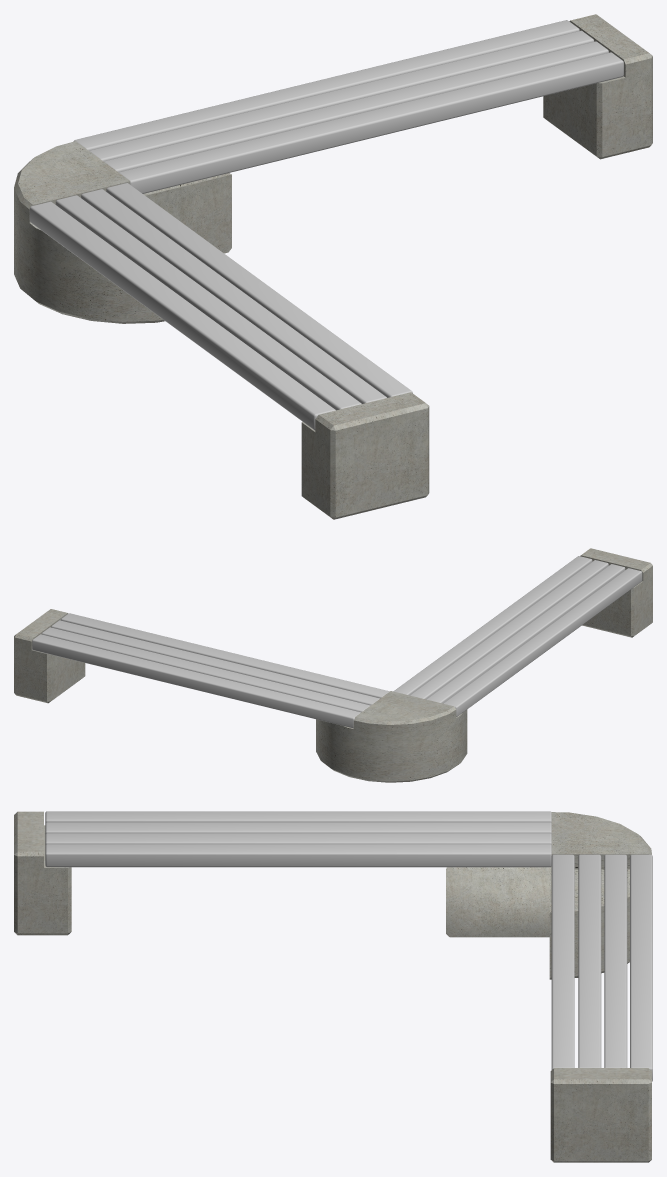
Rendered from Bench01_2.FBX.
3 renders of one model, top to bottom at view 1: azimuth 30°, elevation 25°; view 2: azimuth 150°, elevation 25°; view 3: azimuth 270°, elevation 25°, orthographic. The views are drawn at different scales.
Visible parts, largest first — view 1: Wood, Concrete; view 2: Wood, Concrete; view 3: Wood, Concrete.
Part boxes in pixels (x1,y1,x2,y2): Wood: (29, 20, 623, 430); Concrete: (14, 14, 652, 519); Wood: (32, 556, 642, 728); Concrete: (14, 548, 652, 782); Wood: (45, 811, 652, 1081); Concrete: (14, 811, 651, 1162).
Size of the model in its own units: 109 by 15.75 by 109.
